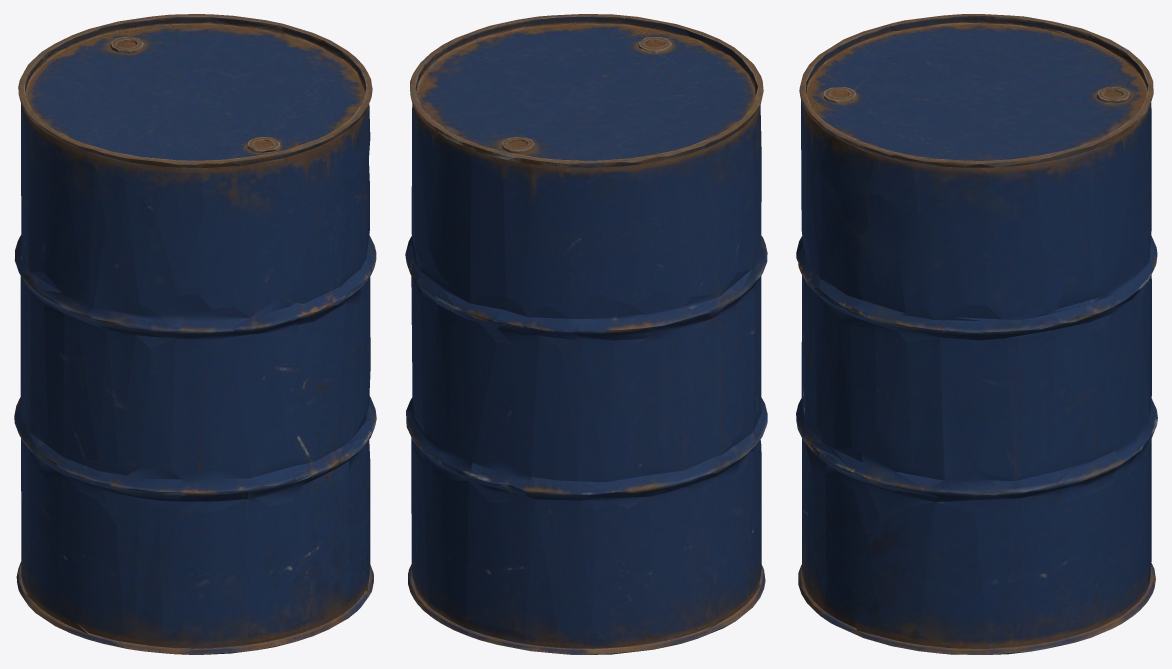
The model's file is barrel.glb.
3 views of the same model, side by side, from view 1: azimuth 30°, elevation 25°; view 2: azimuth 150°, elevation 25°; view 3: azimuth 270°, elevation 25° (orthographic).
Visible parts, largest first — view 1: fit; view 2: fit; view 3: fit.
Boxes of the visible parts, x1,y1,x2,y2 form: fit: [14, 14, 376, 654]; fit: [405, 14, 767, 654]; fit: [796, 14, 1157, 654].
Bounding box in the file's own units: 0.6 × 0.9 × 0.6.
1 material, 1 textured.
